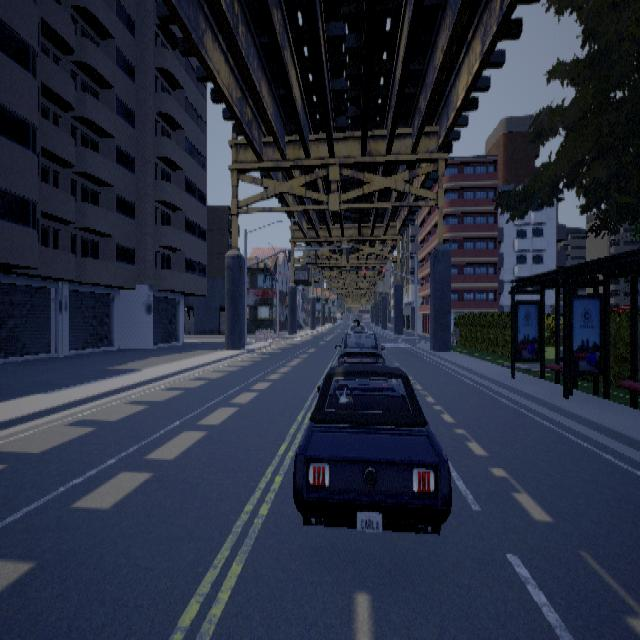red_light: (363, 268, 365, 278), (382, 268, 384, 276)
vehicle: (292, 317, 451, 534)
